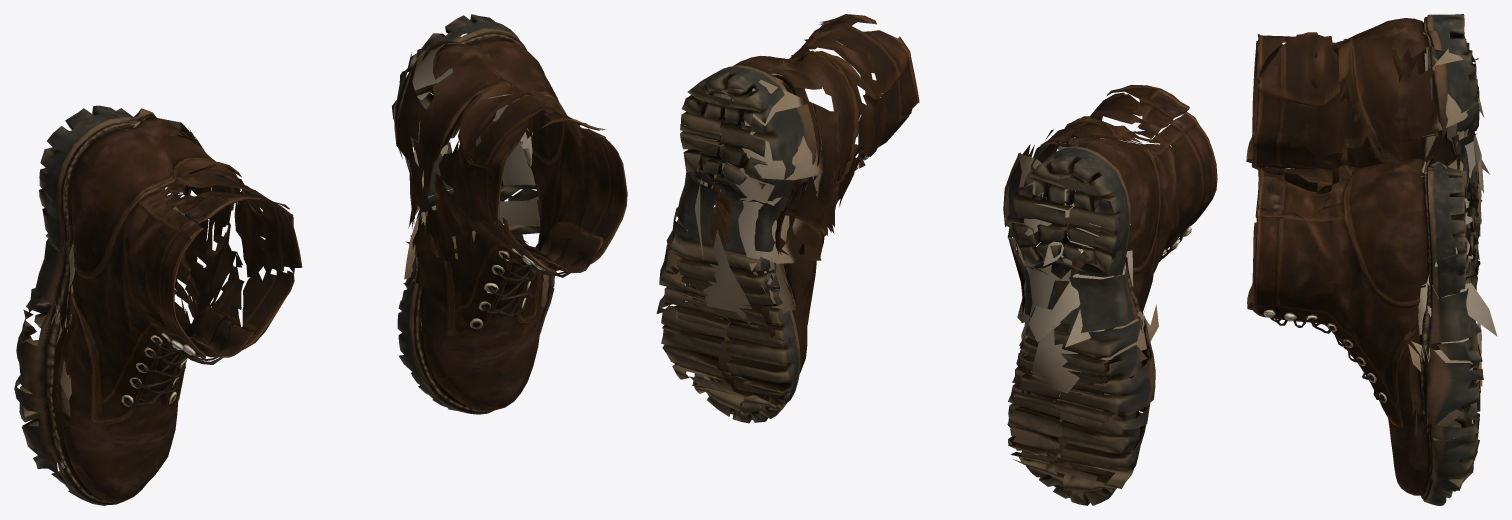
File: adult-base-01.glb
3 views of the same model, side by side, from view 1: azimuth 30°, elevation 25°; view 2: azimuth 150°, elevation 25°; view 3: azimuth 270°, elevation 25° (orthographic). The views are drawn at different scales.
Parts seen in each view (by area): view 1: geometry_0; view 2: geometry_0; view 3: geometry_0.
Boxes of the visible parts, <box> form: geometry_0: <box>14,14,627,505</box>; geometry_0: <box>656,14,1217,505</box>; geometry_0: <box>1246,14,1497,505</box>.
Size of the model in its own units: 0.00396 by 0.00277 by 0.0019.
Materials: 1 (1 with a texture image).
